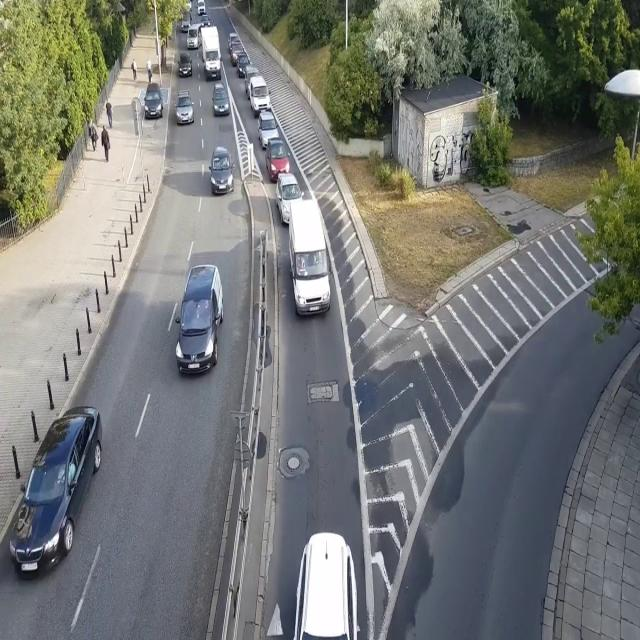car: (9, 404, 103, 581), (291, 529, 359, 640), (275, 172, 305, 225), (208, 146, 235, 195), (265, 137, 291, 179), (257, 112, 279, 149), (174, 90, 194, 126), (144, 82, 163, 119), (212, 83, 230, 116), (230, 42, 245, 67), (178, 53, 192, 78), (237, 52, 250, 78), (228, 33, 241, 53), (196, 0, 206, 15), (200, 15, 211, 27)
truck: (201, 27, 223, 82)
van: (175, 264, 224, 375), (289, 198, 332, 314), (250, 76, 271, 116), (244, 65, 260, 101), (187, 22, 203, 50), (180, 10, 192, 34)
